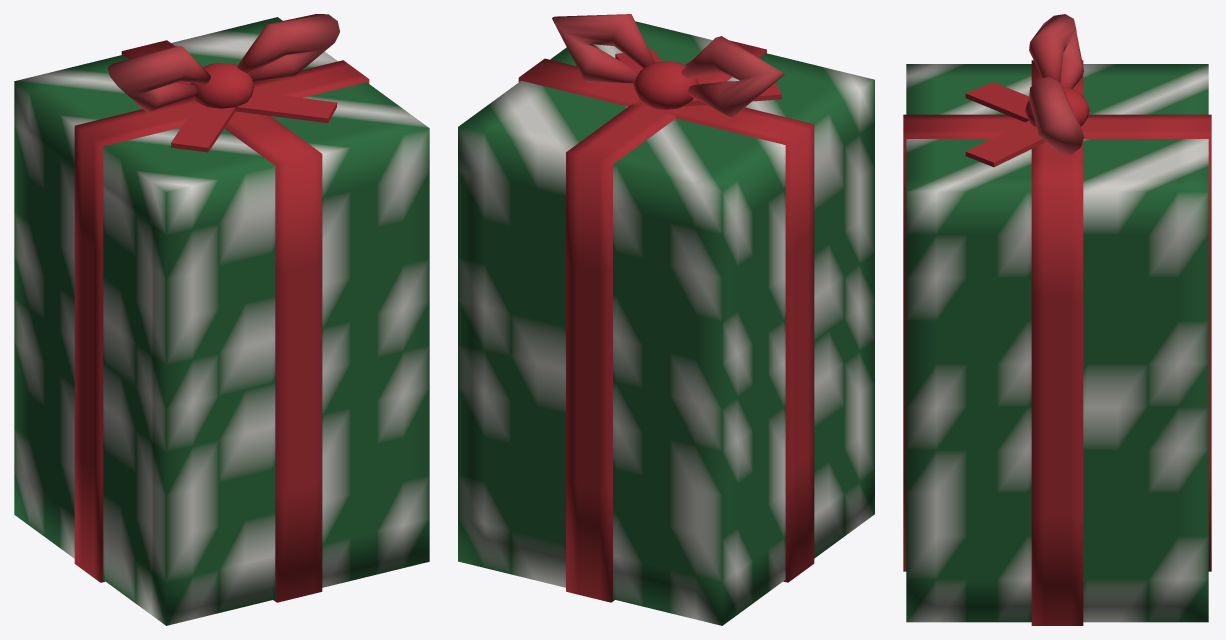
The model's file is Xmas_Present_B.fbx.
3 views of the same model, side by side, from view 1: azimuth 30°, elevation 25°; view 2: azimuth 150°, elevation 25°; view 3: azimuth 270°, elevation 25° (orthographic).
Parts seen in each view (by area): view 1: Xmas_Present_B; view 2: Xmas_Present_B; view 3: Xmas_Present_B.
Part boxes in pixels (box(x1,y1,x2,y2)): Xmas_Present_B: box(14, 14, 429, 625); Xmas_Present_B: box(458, 14, 874, 625); Xmas_Present_B: box(903, 14, 1211, 625).
Size of the model in its own units: 7.14 by 12.91 by 7.14.
